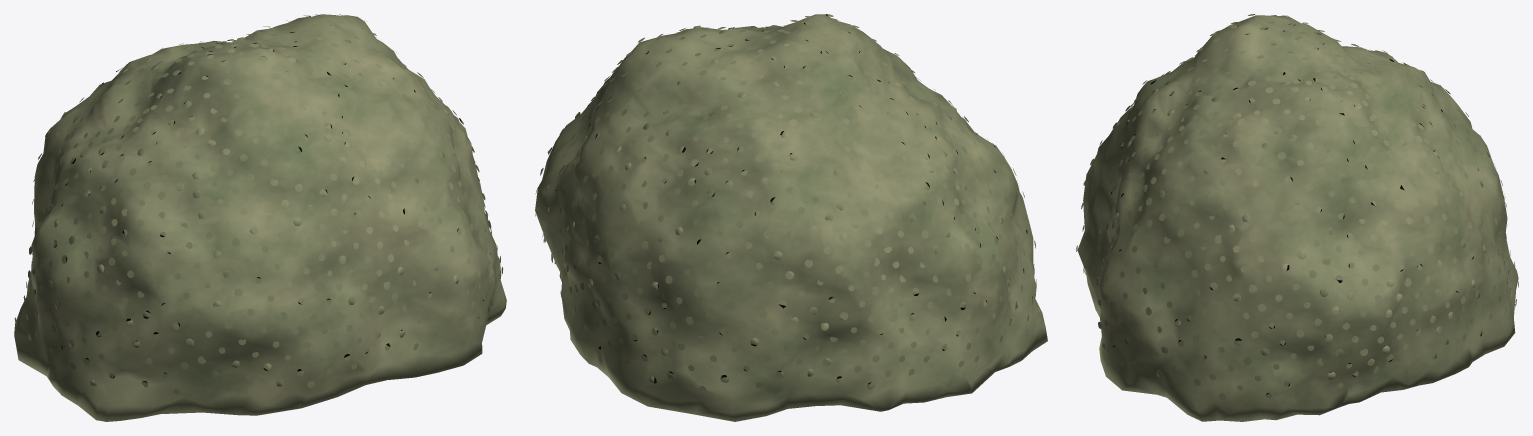
The model's file is massive_coral_lod1.glb.
The picture shows the model from 3 angles, left to right: view 1: azimuth 30°, elevation 25°; view 2: azimuth 150°, elevation 25°; view 3: azimuth 270°, elevation 25°; orthographic projection. The views are drawn at different scales.
Visible parts, largest first — view 1: massive_coral_LOD1; view 2: massive_coral_LOD1; view 3: massive_coral_LOD1.
Part boxes in pixels (x1,y1,x2,y2): massive_coral_LOD1: (14,14,506,421); massive_coral_LOD1: (535,14,1047,421); massive_coral_LOD1: (1076,14,1518,421).
Size of the model in its own units: 1.29 by 0.841 by 1.15.
Materials: 1 (1 with a texture image).
